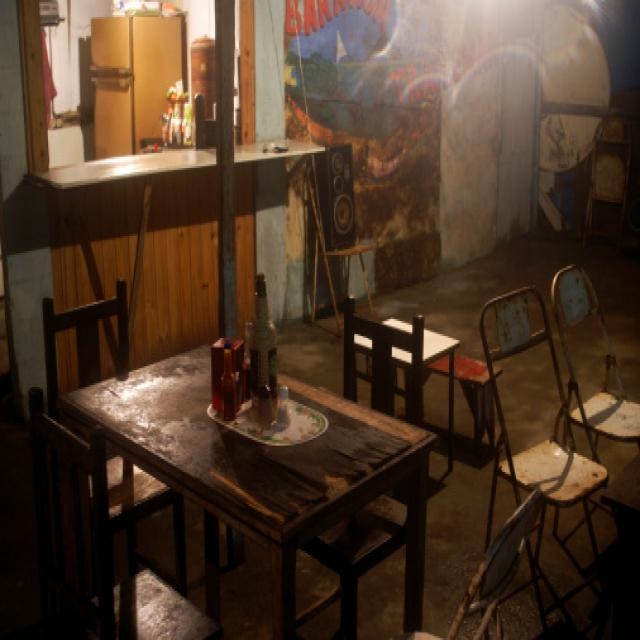Bottle: (236, 262, 290, 443)
Table: (70, 322, 437, 640)
chair: (488, 274, 623, 599), (27, 391, 171, 640), (559, 243, 640, 556), (441, 496, 572, 640), (370, 282, 486, 436), (36, 271, 147, 374), (346, 307, 424, 449)
